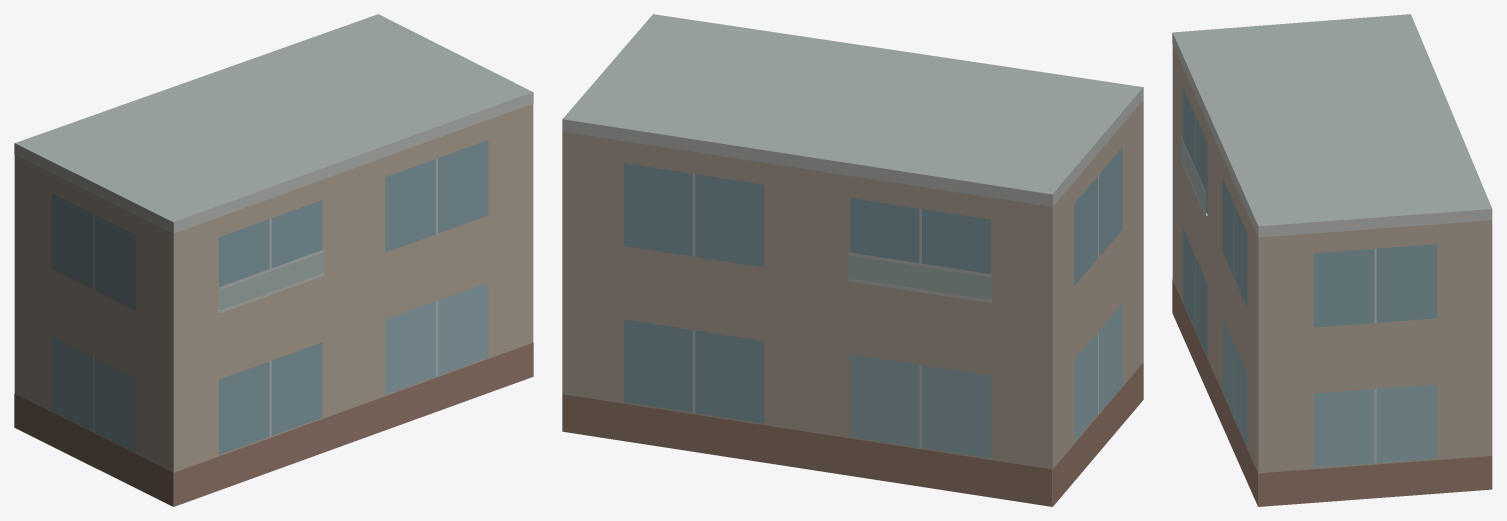
File: survey-upis-32904759.glb
The picture shows the model from 3 angles, left to right: view 1: azimuth 30°, elevation 25°; view 2: azimuth 150°, elevation 25°; view 3: azimuth 270°, elevation 25°; orthographic projection. The views are drawn at different scales.
Parts seen in each view (by area): view 1: survey-upis-32904759.tmp; view 2: survey-upis-32904759.tmp; view 3: survey-upis-32904759.tmp.
Part boxes in pixels (bbox=[...]): survey-upis-32904759.tmp: bbox=[14, 14, 533, 506]; survey-upis-32904759.tmp: bbox=[562, 14, 1143, 506]; survey-upis-32904759.tmp: bbox=[1172, 14, 1492, 506].
Bounding box in the file's own units: 9.91 × 6.1 × 6.32.
